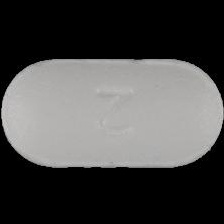68382-135: (0, 0, 224, 224)
